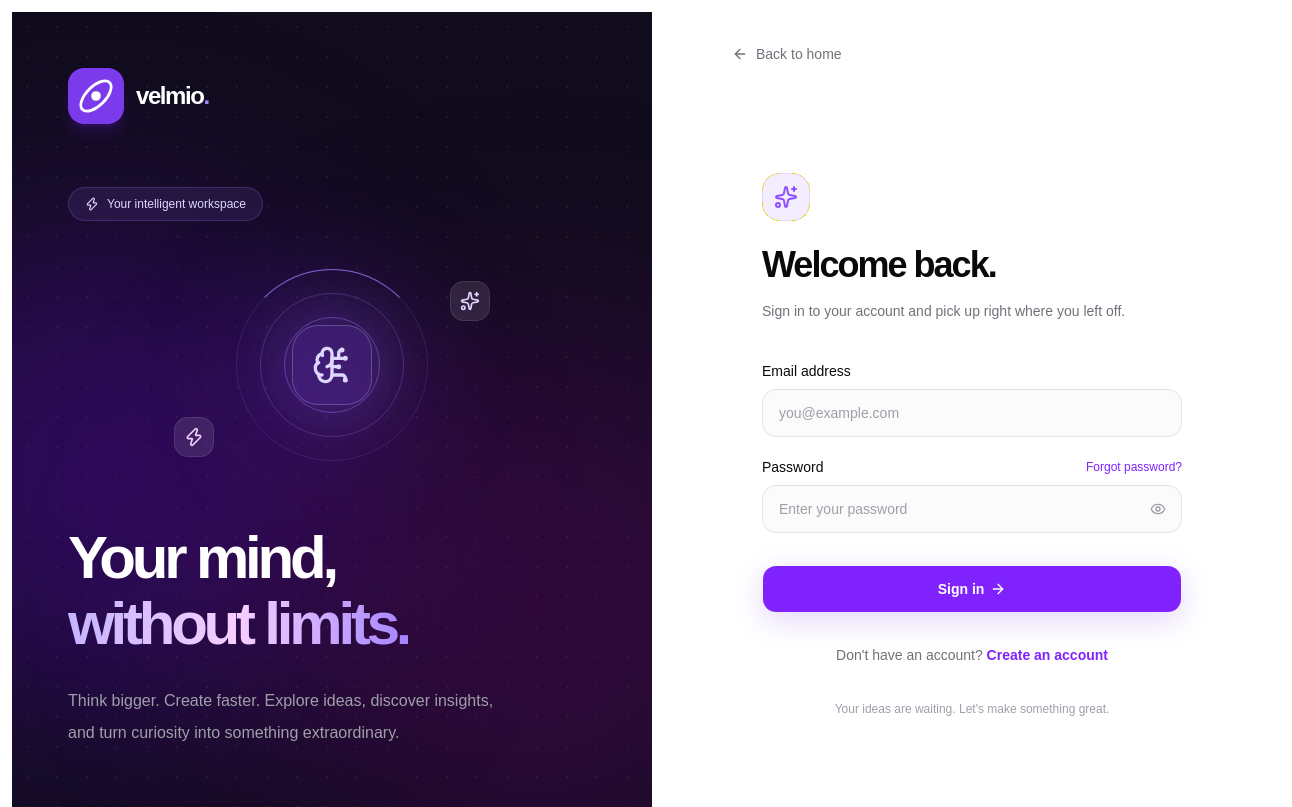
SigninPage › signs in and redirects to chat
Type "test@example.com" into the field labelled "Email address".
click(972, 412); type("test@example.com")  # box [762, 388, 1182, 436]
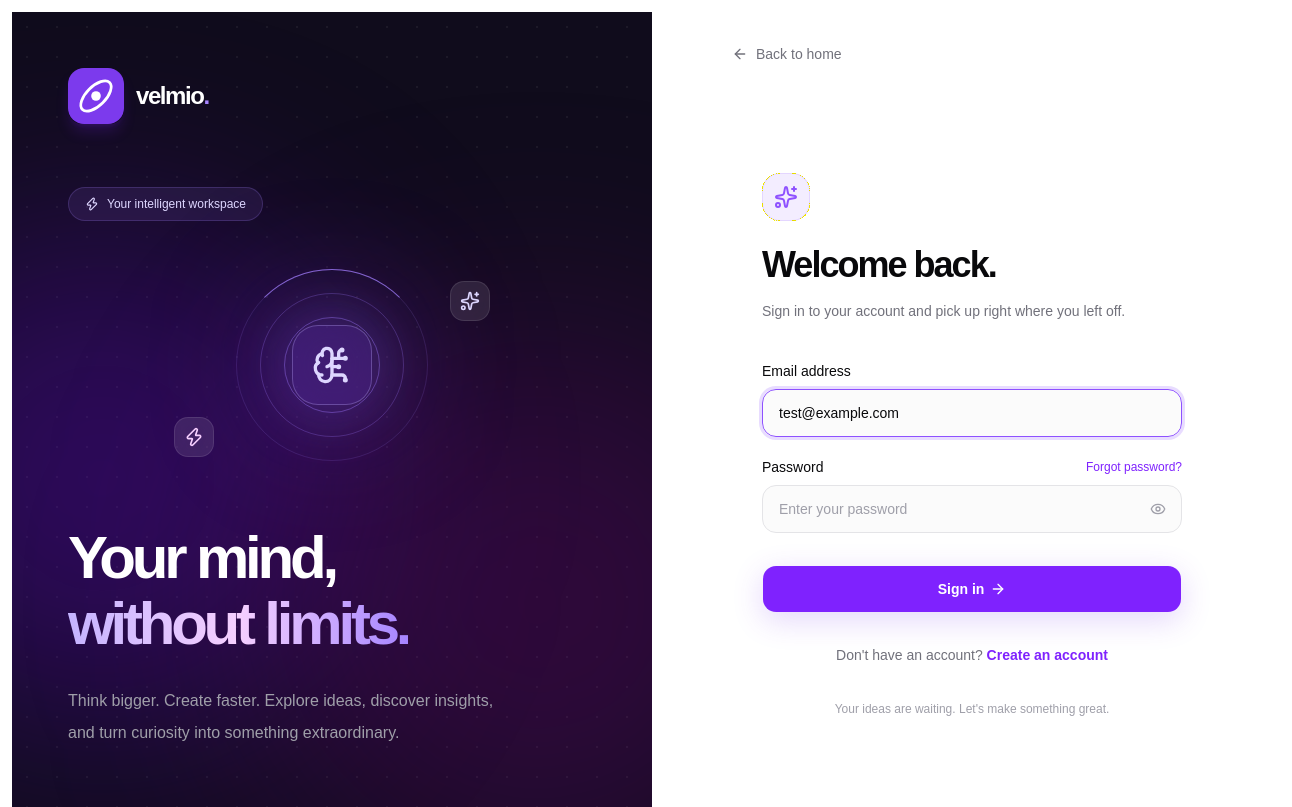
Type "password123" into the password field labelled "Password".
click(972, 508); type("password123")  # box [762, 484, 1182, 532]
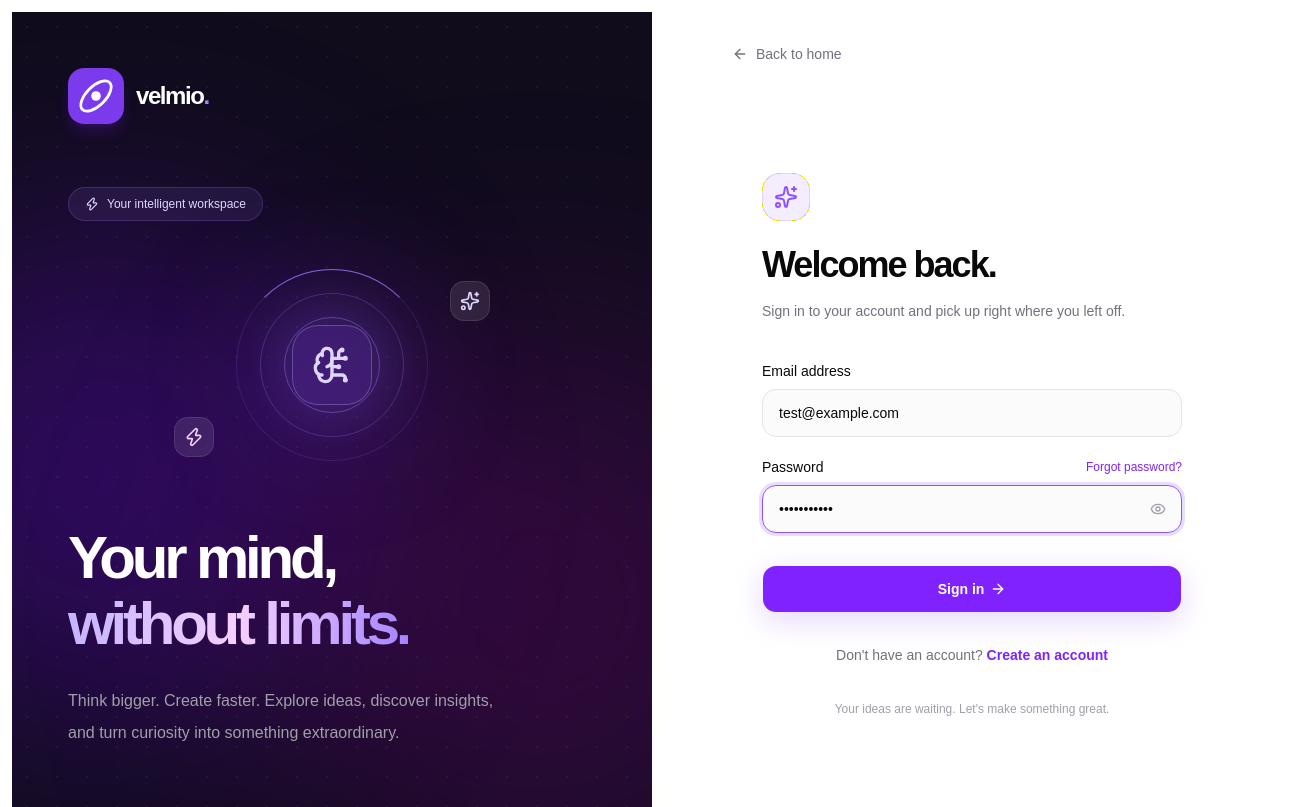
Click the button "Sign in".
click(972, 588)  # box [762, 564, 1182, 612]
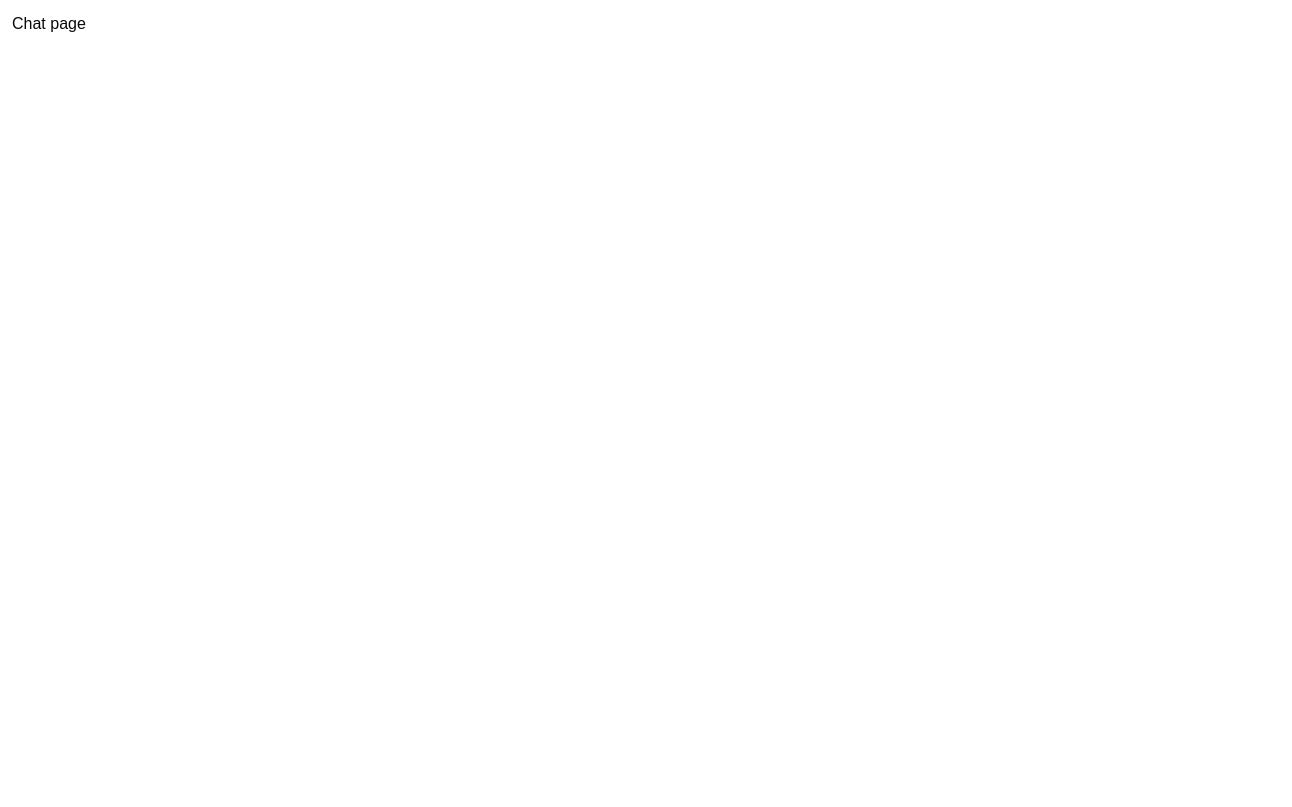
Expected: the heading "Chat page" is shown, [12, 15, 86, 32]
